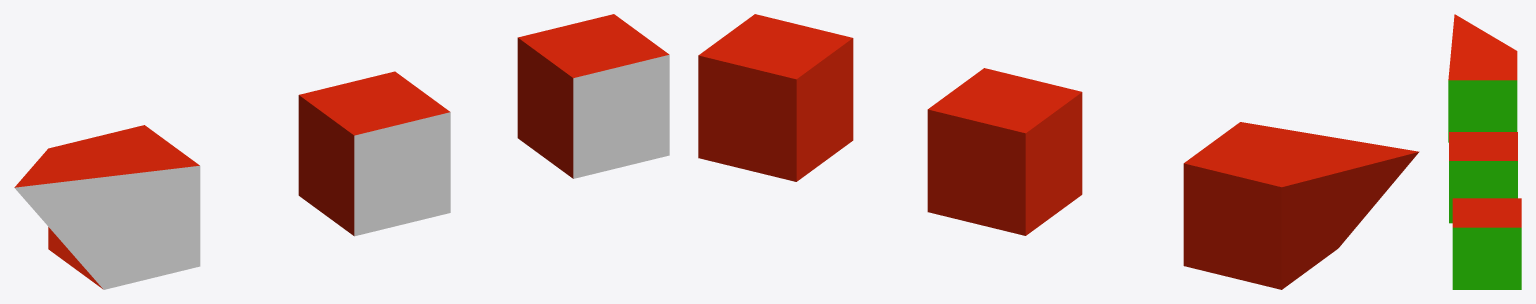
The picture shows the model from 3 angles, left to right: view 1: azimuth 30°, elevation 25°; view 2: azimuth 150°, elevation 25°; view 3: azimuth 270°, elevation 25°; orthographic projection. The views are drawn at different scales.
Visible parts, largest first — view 1: Cube.002, Cube, Cube.001; view 2: Cube.002, Cube.001, Cube; view 3: Cube.002, Cube.001, Cube.
Part boxes in pixels (left/top/right/bottom): Cube.002: left=14, top=125, right=200, bottom=289; Cube: left=298, top=71, right=450, bottom=236; Cube.001: left=517, top=14, right=669, bottom=178; Cube.002: left=1183, top=122, right=1419, bottom=289; Cube.001: left=698, top=14, right=853, bottom=181; Cube: left=927, top=68, right=1082, bottom=235; Cube.002: left=1448, top=14, right=1517, bottom=142; Cube.001: left=1452, top=198, right=1521, bottom=289; Cube: left=1449, top=132, right=1517, bottom=223.
Size of the model in its own units: 1358 by 252 by 212.
